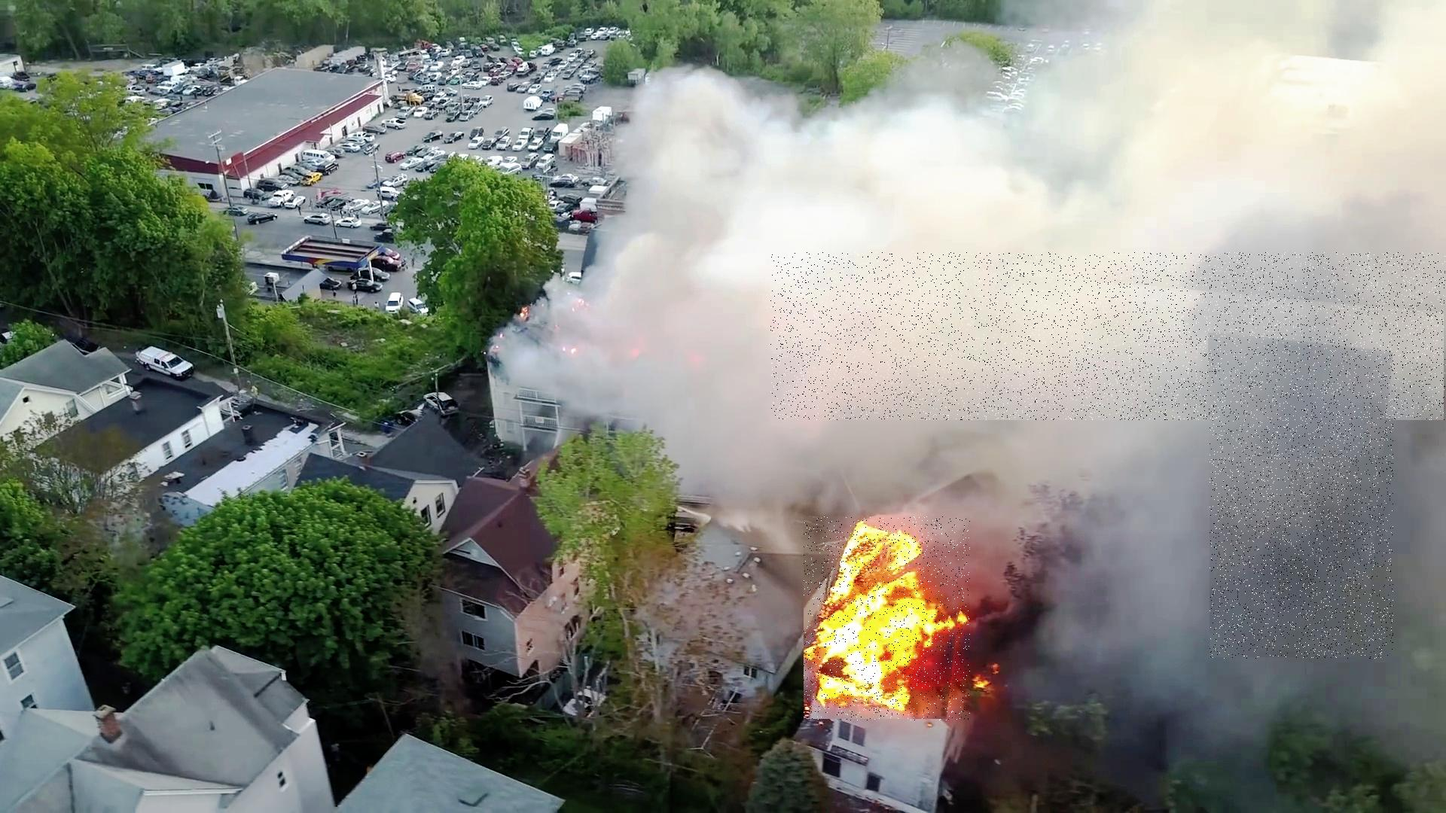fire: (804, 517, 971, 721)
smoke: (771, 253, 1446, 420), (1210, 333, 1394, 659)
